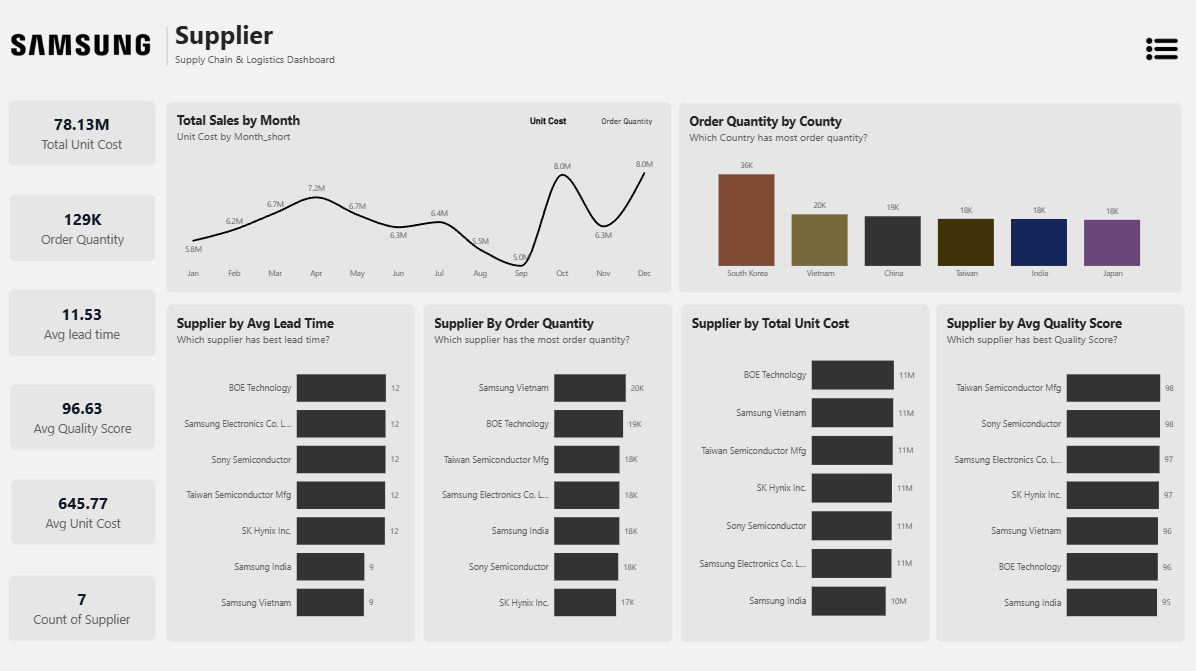

The page's visual inventory and layout, read from the dashboard file:
{"tool":"powerbi","page":{"name":"Supplier","canvas":[1920,1080],"ordinal":2},"visuals":[{"type":"image","box":[0,15,247.5,120],"z":0},{"type":"shape","title":"Supplier","box":[280,32,398,104],"z":1000},{"type":"shape","box":[55,47.5,422.5,62.5],"z":2000},{"type":"cardVisual","fields":{"Data":["Measures_table.Order_Qty"]},"box":[16,316,232,106],"z":3000},{"type":"cardVisual","fields":{"Data":["CountNonNull(dim_supplier.supplier_id)"]},"box":[14,926,234,104],"z":4000},{"type":"cardVisual","fields":{"Data":["fact_procurement.Avg_unit_cost"]},"box":[18,772,230,104],"z":5000},{"type":"cardVisual","fields":{"Data":["fact_procurement.Avg_quality_score"]},"box":[16,620,232,104],"z":6000},{"type":"cardVisual","fields":{"Data":["Measures_table.Avg_lead_time"]},"box":[14,468,234,106],"z":7000},{"type":"cardVisual","fields":{"Data":["fact_procurement.Total_unit_cost"]},"box":[14,166,234,104],"z":8000},{"type":"clusteredBarChart","title":"Supplier by Avg Lead Time","fields":{"Category":["dim_supplier.supplier_name"],"Y":["Measures_table.Avg_lead_time"]},"box":[265,492.5,397.5,540],"z":9000},{"type":"clusteredBarChart","title":"Supplier By Order Quantity","fields":{"Category":["dim_supplier.supplier_name"],"Y":["Measures_table.Order_Qty"]},"box":[677.5,492.5,397.5,540],"z":10000},{"type":"clusteredBarChart","title":"Supplier by Total Unit Cost","fields":{"Category":["dim_supplier.supplier_name"],"Y":["fact_procurement.Total_unit_cost"]},"box":[1090,492.5,397.5,540],"z":11000},{"type":"lineChart","title":"Total Sales by Month","fields":{"Y":["fact_procurement.Total_unit_cost"],"Category":["dim_date.Month_short"]},"box":[265,167.5,808.3,305],"z":11500,"group":"g1"},{"type":"columnChart","title":"Order Quantity by County","fields":{"Category":["dim_supplier.country"],"Y":["Measures_table.Order_Qty"]},"box":[1085,170,805,302.5],"z":12000},{"type":"group","id":"g1","title":"Group 1","box":[265,167.5,807.5,305],"z":13000},{"type":"clusteredBarChart","title":"Supplier by Avg Quality Score","fields":{"Category":["dim_supplier.supplier_name"],"Y":["fact_procurement.Avg_quality_score"]},"box":[1497.5,492.5,397.5,540],"z":14000},{"type":"image","box":[1826,58,66,50],"z":14003},{"type":"advancedSlicerVisual","fields":{"Values":["Cost_quantity_supplier.Cost_quantity_supplier"]},"box":[813.3,175.8,253.3,45],"z":15000,"group":"g1"}]}

Visuals, with their boxes in screenshot pixels (x1, y1, x2, y2), scaled from the page's 1920x1080 canvas onto the 1196x671 screenshot:
image: box(0, 9, 154, 84)
"Supplier" shape: box(174, 20, 422, 84)
shape: box(34, 30, 297, 68)
cardVisual - Measures_table.Order_Qty: box(10, 196, 154, 262)
cardVisual - CountNonNull(dim_supplier.supplier_id): box(9, 575, 154, 640)
cardVisual - fact_procurement.Avg_unit_cost: box(11, 480, 154, 544)
cardVisual - fact_procurement.Avg_quality_score: box(10, 385, 154, 450)
cardVisual - Measures_table.Avg_lead_time: box(9, 291, 154, 357)
cardVisual - fact_procurement.Total_unit_cost: box(9, 103, 154, 168)
"Supplier by Avg Lead Time" clusteredBarChart: box(165, 306, 413, 641)
"Supplier By Order Quantity" clusteredBarChart: box(422, 306, 670, 641)
"Supplier by Total Unit Cost" clusteredBarChart: box(679, 306, 927, 641)
"Total Sales by Month" lineChart: box(165, 104, 669, 294)
"Order Quantity by County" columnChart: box(676, 106, 1177, 294)
"Group 1" group: box(165, 104, 668, 294)
"Supplier by Avg Quality Score" clusteredBarChart: box(933, 306, 1180, 641)
image: box(1137, 36, 1179, 67)
advancedSlicerVisual - Cost_quantity_supplier.Cost_quantity_supplier: box(507, 109, 664, 137)
